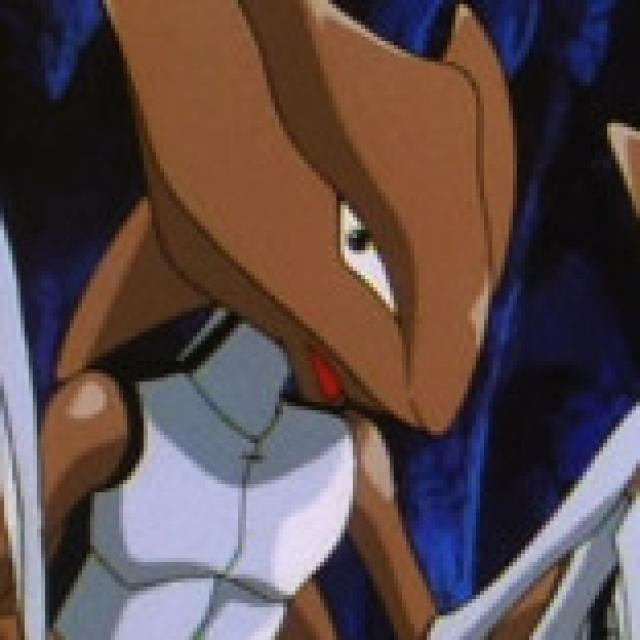Kabutops: (0, 82, 533, 610)
